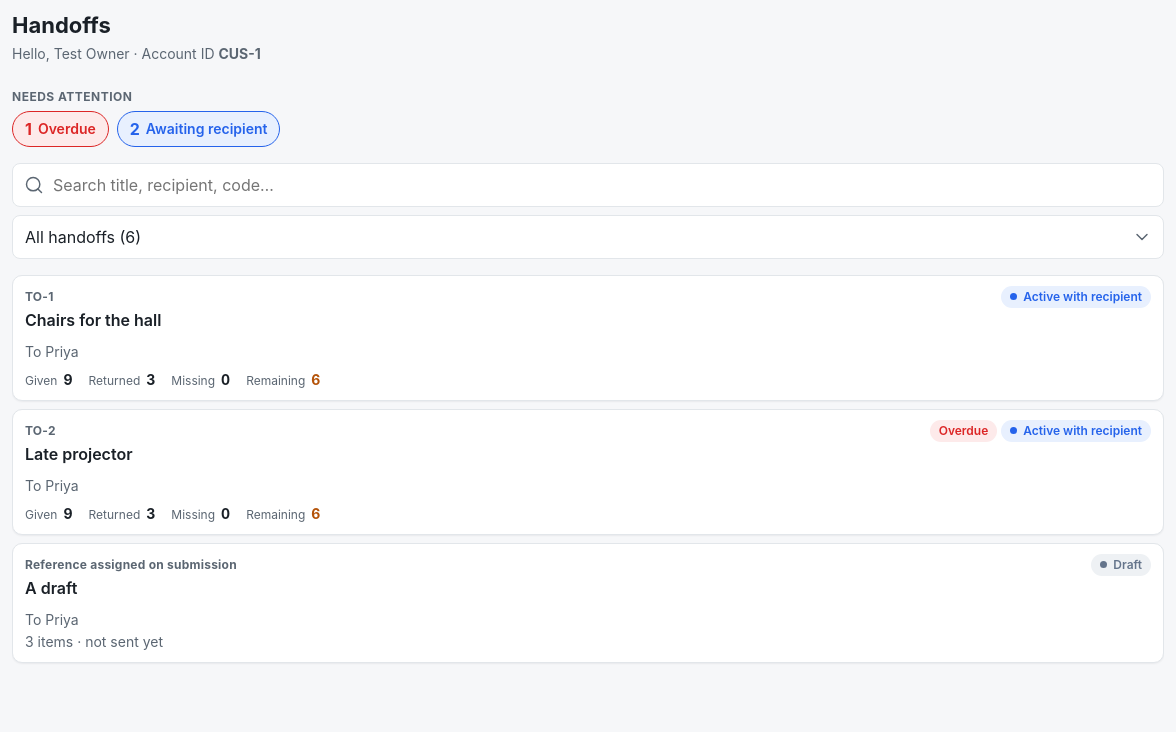
Test: Dashboard › keeps only the late ones for the Overdue view
Expected: the heading "Chairs for the hall" is shown, [25,310,161,330]
Step 1. Select "Overdue (1)" in the dropdown named "Filter by status" → (588, 237), box [12,215,1164,259]
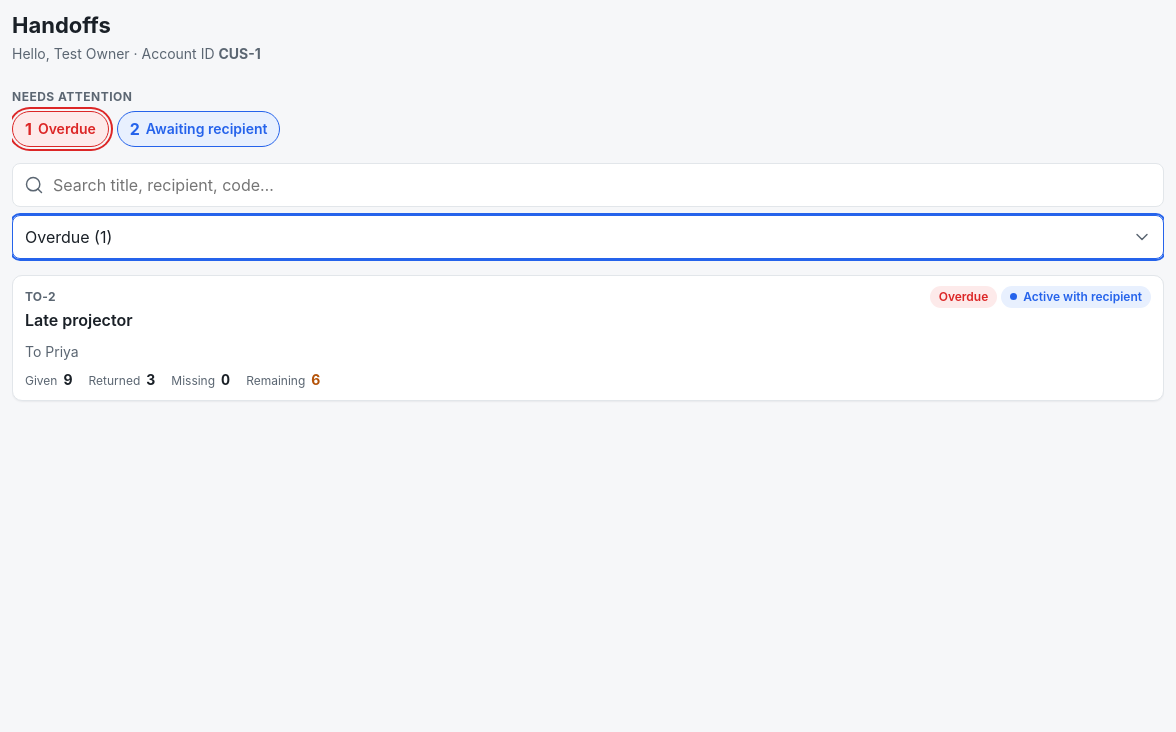
Expected: the heading "Late projector" is shown, [25,310,132,330]
Expected: the link "Chairs for the hall" is gone
